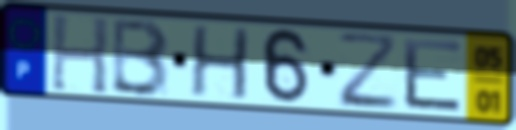6: (260, 26, 314, 108)
B: (108, 17, 172, 99)
E: (400, 36, 466, 116)
H: (49, 12, 112, 97), (187, 24, 251, 103)
Z: (334, 31, 401, 113)
